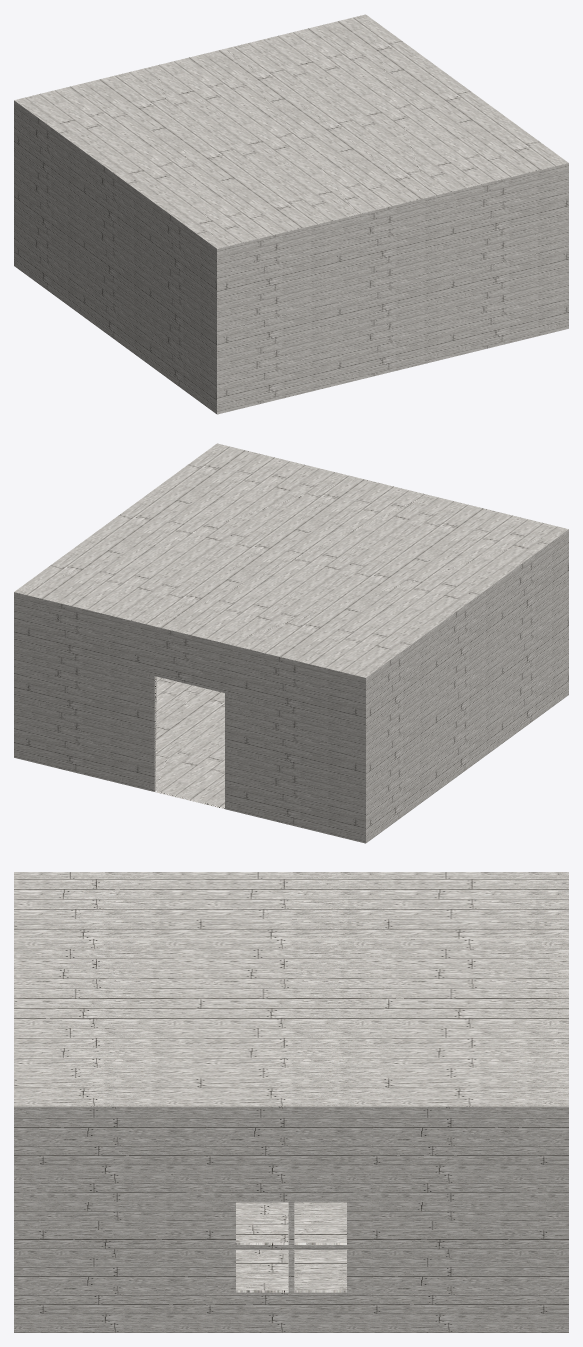
The model's file is Cabin.glb.
3 renders of one model, top to bottom at view 1: azimuth 30°, elevation 25°; view 2: azimuth 150°, elevation 25°; view 3: azimuth 270°, elevation 25°, orthographic. The views are drawn at different scales.
Parts seen in each view (by area): view 1: Cube; view 2: Cube; view 3: Cube.
Part boxes in pixels (left/top/right/bottom): Cube: left=14, top=14, right=568, bottom=414; Cube: left=14, top=443, right=568, bottom=843; Cube: left=14, top=872, right=568, bottom=1332.
Bounding box in the file's own units: 10 × 4.5 × 10.
1 material, 1 textured.
